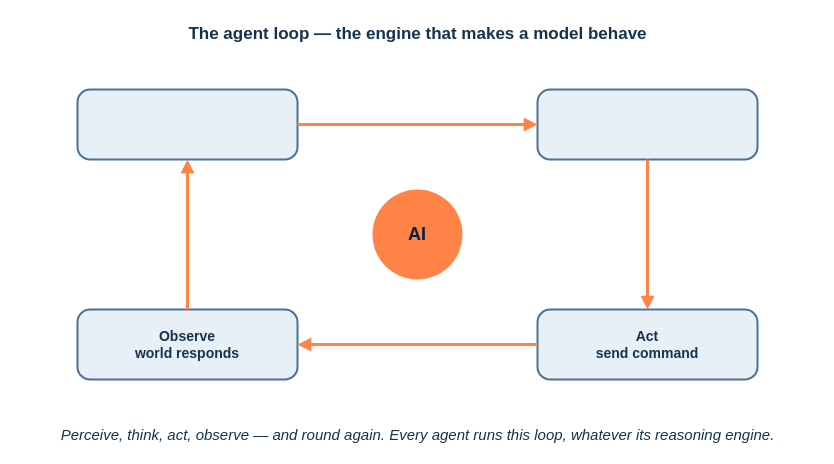
This 834x464 diagram has some shape labels left out. The shapes that lost their labels are listed below. From the top down, each one's centre as x and y in pixels, then its label:
At pixel 187 124: "Perceive read sensors".
At pixel 647 124: "Think reason · choose".
